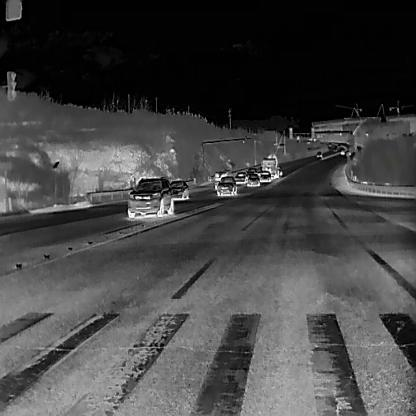car: (127, 175, 174, 217), (260, 152, 279, 179), (167, 179, 190, 200), (216, 175, 237, 195), (213, 169, 233, 189), (246, 172, 260, 186), (233, 171, 248, 184), (259, 170, 271, 183), (245, 167, 257, 179), (276, 165, 283, 176), (255, 168, 263, 176), (315, 150, 322, 158), (345, 149, 351, 155), (332, 146, 337, 151), (352, 144, 357, 149), (328, 142, 332, 147), (340, 149, 344, 154), (337, 142, 340, 146), (334, 145, 337, 149), (346, 140, 348, 144)
